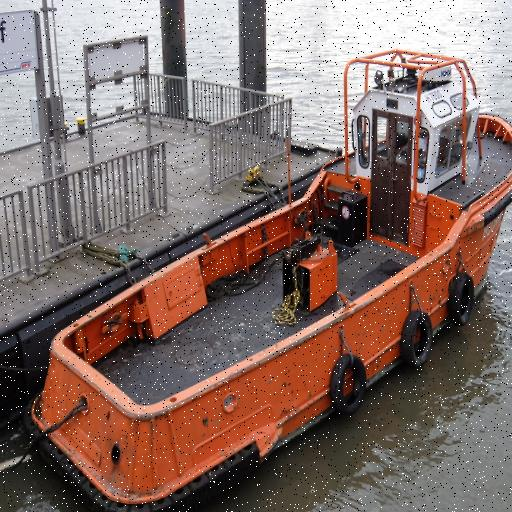tugboat: (20, 45, 512, 512)
